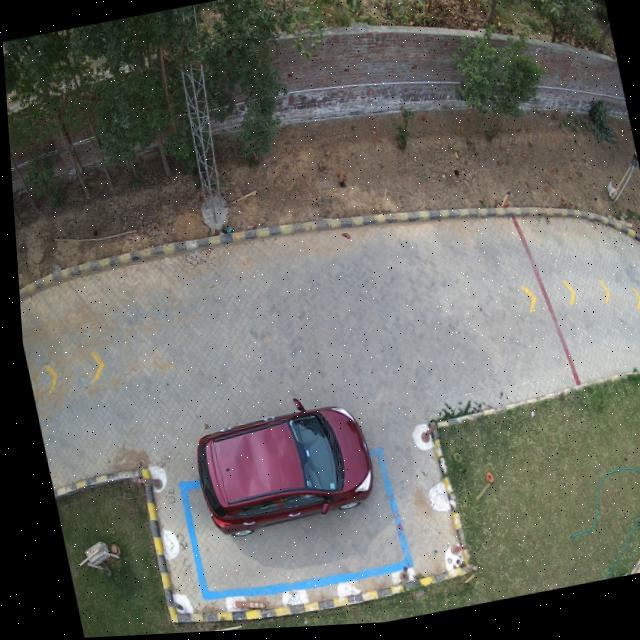car: (189, 410, 366, 539)
